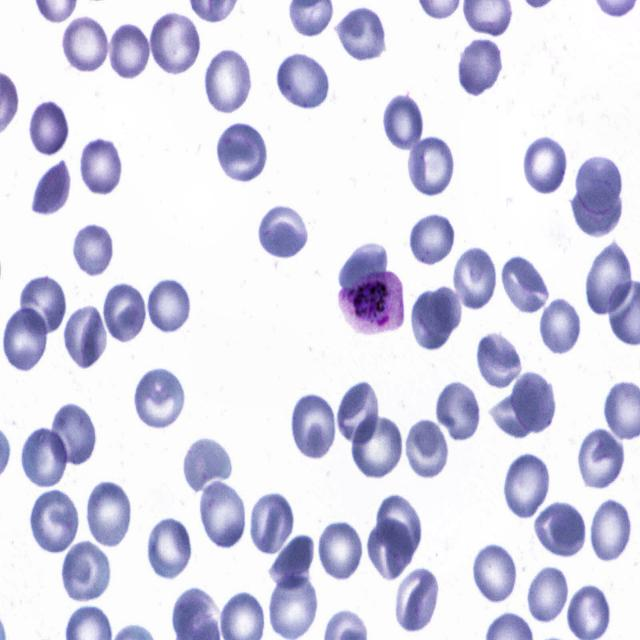difficult: (335, 268, 407, 338)
red blood cell: (488, 378, 548, 439), (131, 365, 185, 431), (274, 48, 331, 110), (289, 389, 338, 460), (520, 129, 570, 198), (350, 413, 402, 479), (214, 121, 269, 183), (585, 242, 631, 316), (248, 488, 296, 558), (199, 478, 244, 551), (150, 13, 200, 77), (18, 424, 68, 488), (267, 573, 316, 638), (433, 378, 481, 444), (568, 177, 622, 235), (30, 487, 78, 552), (182, 438, 234, 498), (503, 453, 550, 519), (256, 204, 310, 261), (202, 49, 250, 113), (502, 253, 550, 317), (576, 154, 624, 218), (576, 424, 624, 488), (474, 329, 523, 390), (88, 481, 132, 548), (18, 274, 64, 338), (406, 135, 454, 196), (48, 402, 95, 464), (63, 304, 107, 370), (61, 15, 110, 74), (1, 308, 46, 372), (510, 370, 555, 434), (393, 566, 438, 630), (376, 491, 421, 555), (335, 5, 386, 61), (534, 500, 585, 556), (458, 37, 504, 99), (64, 542, 111, 602), (367, 518, 414, 578), (338, 378, 380, 445), (79, 136, 124, 198), (379, 91, 424, 153), (338, 239, 390, 292), (102, 283, 146, 345), (270, 532, 316, 591), (147, 517, 190, 579), (453, 245, 495, 308), (471, 542, 515, 602), (526, 564, 568, 626), (408, 212, 455, 267), (318, 521, 362, 579), (148, 278, 192, 334), (568, 583, 612, 639), (406, 418, 446, 479), (538, 297, 580, 355), (589, 500, 629, 560), (410, 290, 451, 348), (109, 24, 152, 78), (28, 99, 67, 157), (31, 158, 72, 213), (72, 224, 115, 274), (424, 286, 464, 333)
